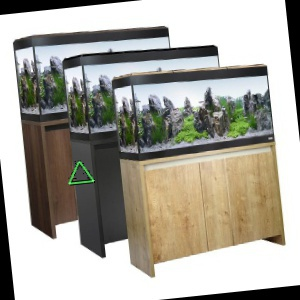triangle: (67, 158, 95, 188)
